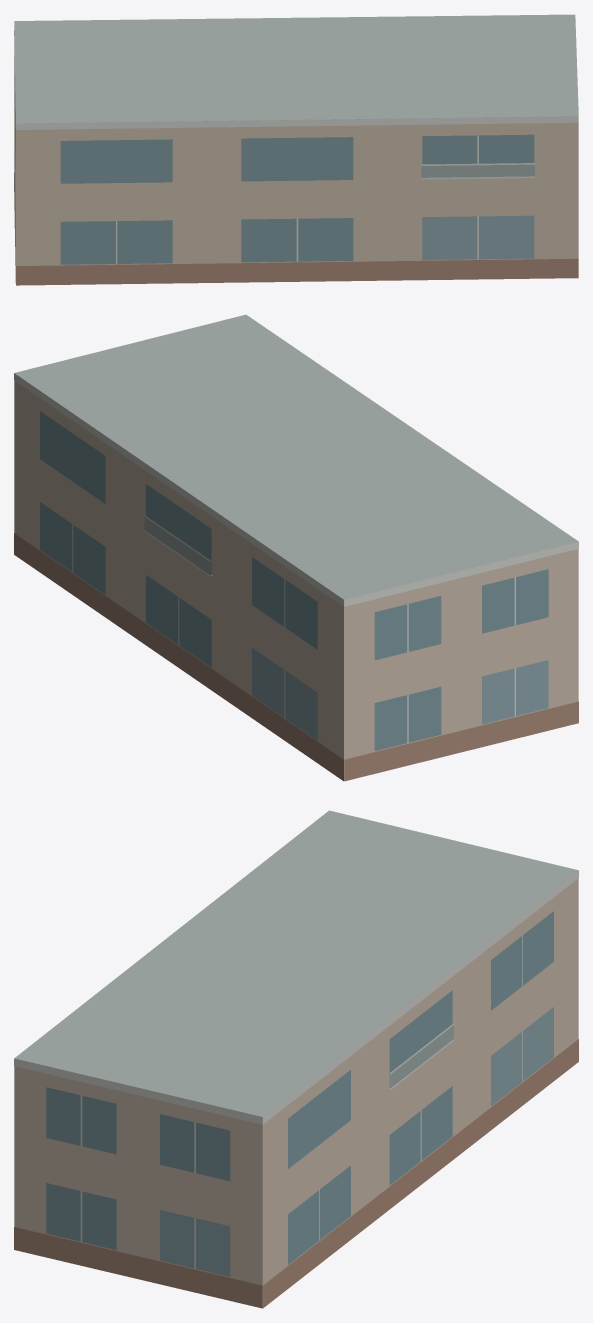
The model's file is survey-upis-32518645.glb.
3 renders of one model, top to bottom at view 1: azimuth 30°, elevation 25°; view 2: azimuth 150°, elevation 25°; view 3: azimuth 270°, elevation 25°, orthographic. The views are drawn at different scales.
Visible parts, largest first — view 1: survey-upis-32518645.tmp; view 2: survey-upis-32518645.tmp; view 3: survey-upis-32518645.tmp.
Boxes of the visible parts, bbox=[...] form: survey-upis-32518645.tmp: bbox=[14, 14, 578, 285]; survey-upis-32518645.tmp: bbox=[14, 314, 578, 781]; survey-upis-32518645.tmp: bbox=[14, 810, 578, 1308].
Size of the model in its own units: 20.96 by 6.1 by 16.32.
